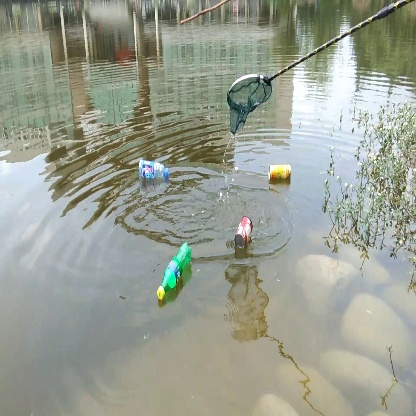bottle: (156, 241, 194, 301), (226, 215, 257, 250), (135, 154, 172, 182), (263, 158, 294, 180)
